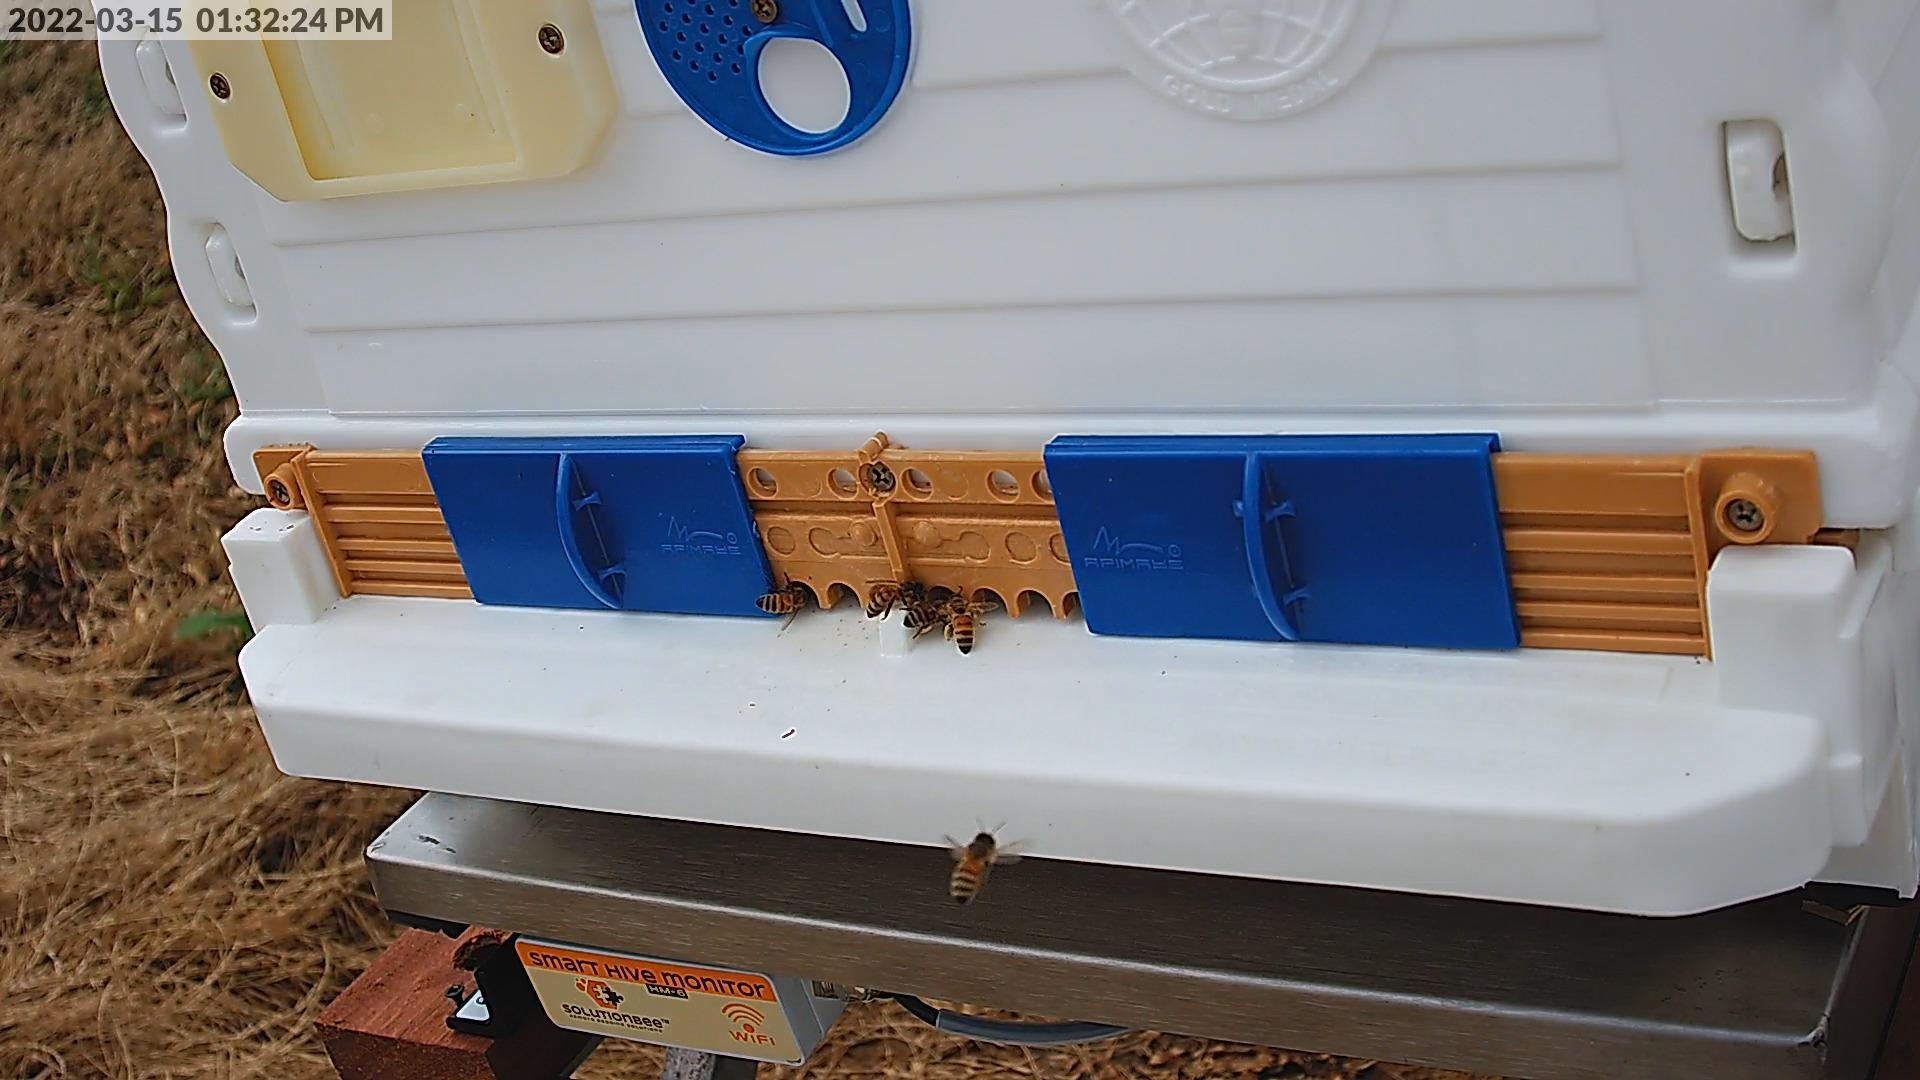bee: (951, 832, 997, 903), (868, 583, 924, 618), (757, 588, 808, 615)
pollenbee: (944, 595, 976, 653), (906, 599, 953, 630)
